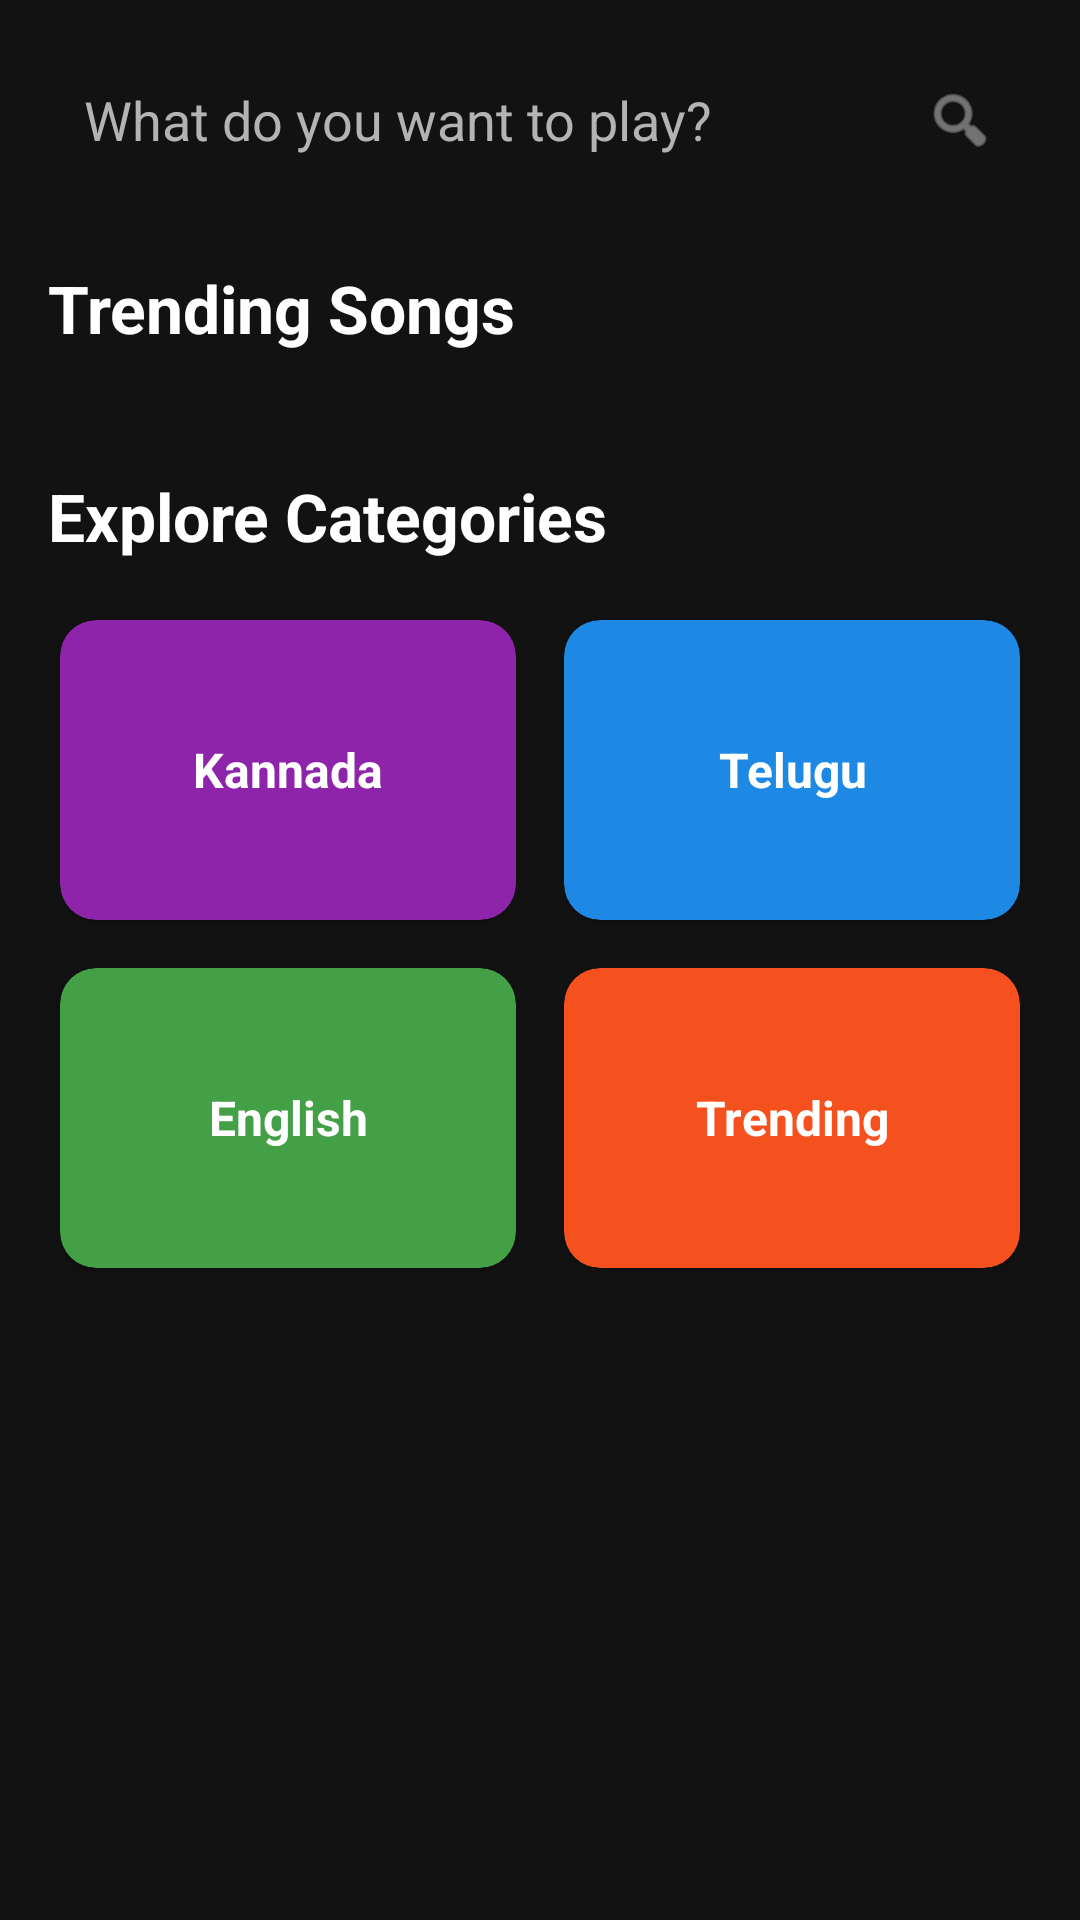

Named icons in this screenshot (1080px×1920px) and their centers, (x,y):
search: (959,120)
